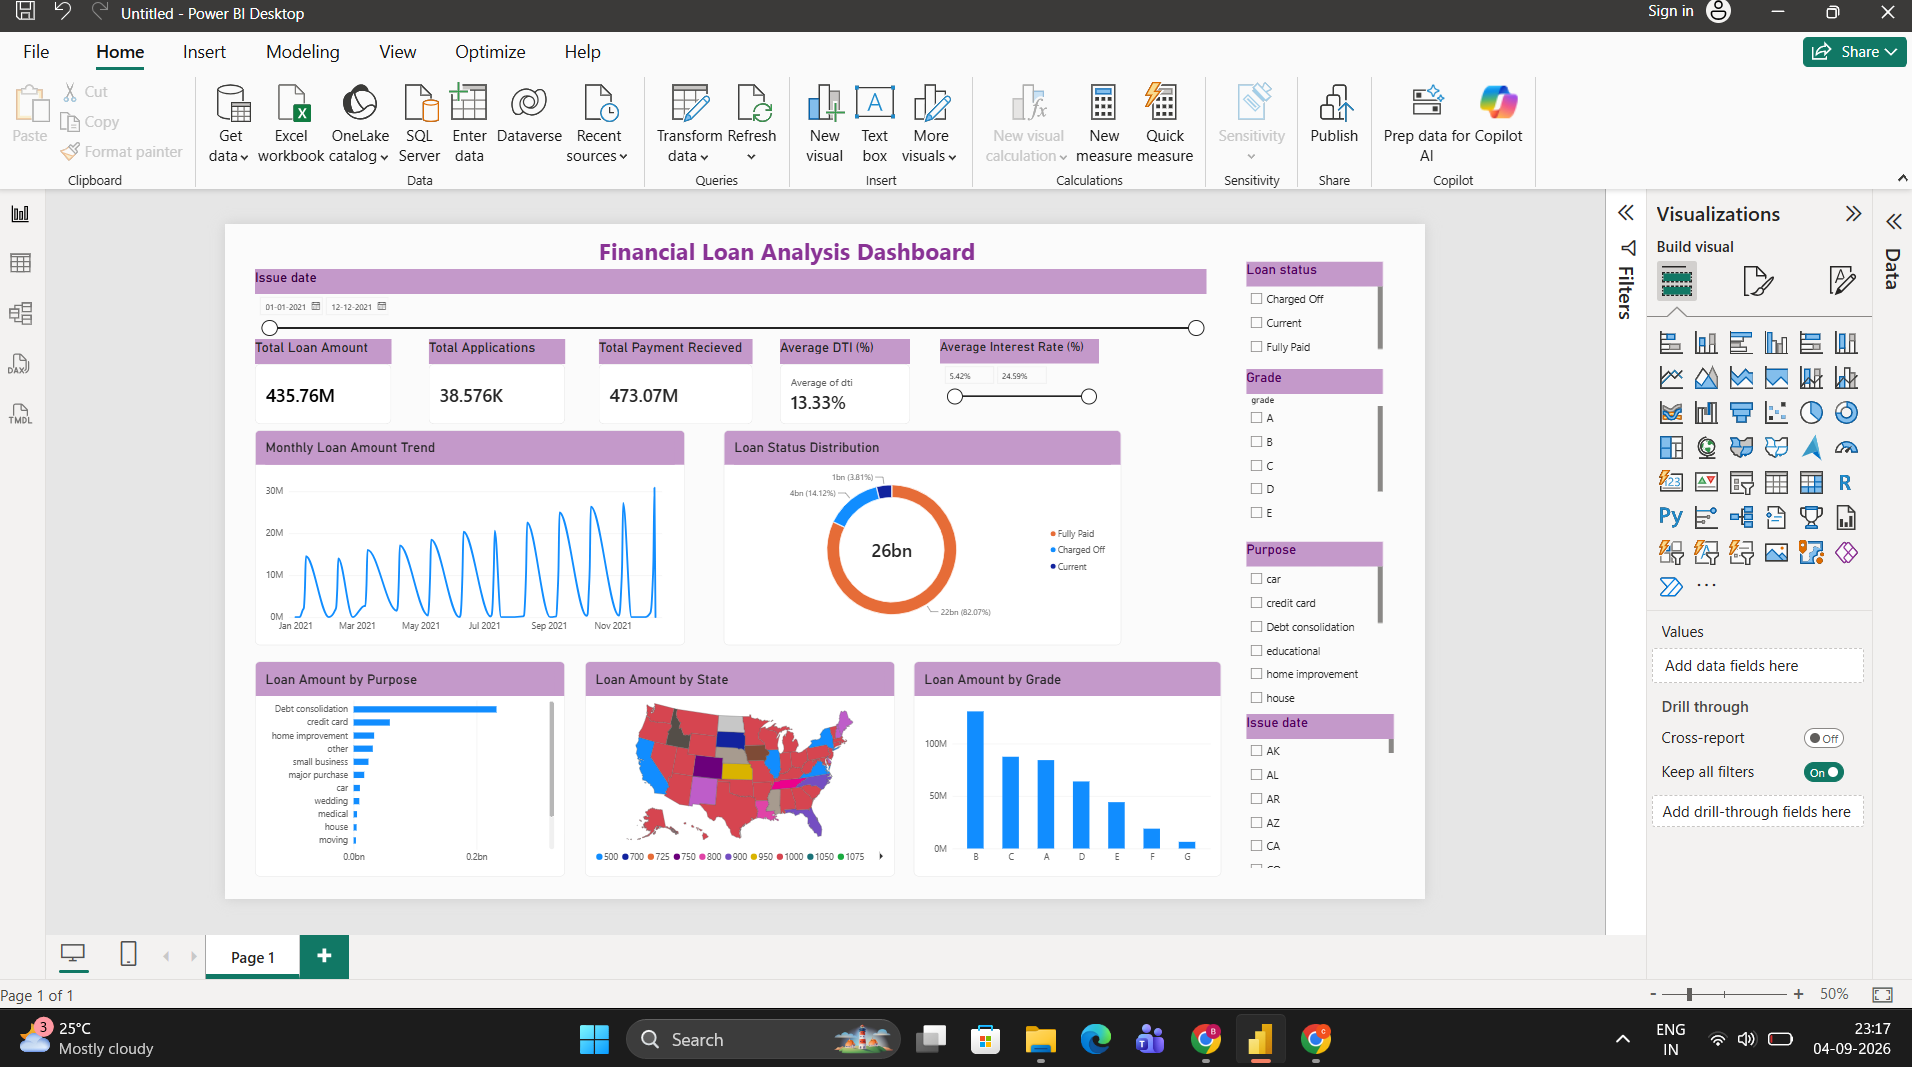

Layout of this report page (visuals, bound fields, positions):
{"tool":"powerbi","page":{"name":"Page 1","canvas":[1920,1080],"ordinal":0},"visuals":[{"type":"cardVisual","title":"Total Loan Amount","fields":{"Data":["Sum(financial_loan.loan_amount)"]},"box":[48,184,218,136],"z":0},{"type":"cardVisual","title":"Total Applications","fields":{"Data":["CountNonNull(financial_loan.id)"]},"box":[326,184,218,136],"z":1},{"type":"cardVisual","title":"Total Payment Recieved","fields":{"Data":["Sum(financial_loan.total_payment)"]},"box":[598,184,246,136],"z":2},{"type":"cardVisual","title":"Average DTI (%)","fields":{"Data":["Avg(financial_loan.dti)"]},"box":[888,184,208,136],"z":3},{"type":"lineChart","title":"Monthly Loan Amount Trend ","fields":{"Category":["financial_loan.issue_date.Variation.Date Hierarchy.Year","financial_loan.issue_date.Variation.Date Hierarchy.Quarter","financial_loan.issue_date.Variation.Date Hierarchy.Month","financial_loan.issue_date.Variation.Date Hierarchy.Day"],"Y":["Sum(financial_loan.loan_amount)"]},"box":[48,330,688,344],"z":4},{"type":"clusteredBarChart","title":"Loan Amount by Purpose","fields":{"Category":["financial_loan.purpose"],"Y":["Sum(financial_loan.loan_amount)"]},"box":[48,700,496,344],"z":5},{"type":"donutChart","title":"Loan Status Distribution","fields":{"Category":["financial_loan.loan_status"],"Y":["Sum(financial_loan.id)"]},"box":[798,330,636,344],"z":6},{"type":"shapeMap","title":"Loan Amount by State","fields":{"Category":["financial_loan.address_state"],"Series":["financial_loan.loan_amount"]},"box":[576,700,496,344],"z":7},{"type":"slicer","title":"Loan status","fields":{"Values":["financial_loan.loan_status"]},"box":[1634,60,218,152],"z":10},{"type":"slicer","title":"Grade","fields":{"Values":["financial_loan.grade"]},"box":[1634,232,218,250],"z":11},{"type":"slicer","title":"Purpose","fields":{"Values":["financial_loan.purpose"]},"box":[1634,508,218,260],"z":12},{"type":"slicer","title":"Issue date","fields":{"Values":["financial_loan.address_state"]},"box":[1634,784,236,246],"z":13},{"type":"slicer","title":"Issue date","fields":{"Values":["financial_loan.issue_date"]},"box":[48,72,1522,128],"z":14},{"type":"textbox","box":[598,18,642,54],"z":15},{"type":"slicer","title":"Average Interest Rate (%)","fields":{"Values":["financial_loan.int_rate"]},"box":[1144,184,254,136],"z":16},{"type":"clusteredColumnChart","title":"Loan Amount by Grade","fields":{"Category":["financial_loan.grade"],"Y":["Sum(financial_loan.loan_amount)"]},"box":[1102,700,492,344],"z":17}]}

Visuals, with their boxes on the page's 1920x1080 design canvas (x1, y1, x2, y2). These are canvas units, not pixel positions in the 1912x1067 screenshot, which may show the page scaled, cropped or inside an application window:
"Total Loan Amount" cardVisual: l=48, t=184, r=266, b=320
"Total Applications" cardVisual: l=326, t=184, r=544, b=320
"Total Payment Recieved" cardVisual: l=598, t=184, r=844, b=320
"Average DTI (%)" cardVisual: l=888, t=184, r=1096, b=320
"Monthly Loan Amount Trend " lineChart: l=48, t=330, r=736, b=674
"Loan Amount by Purpose" clusteredBarChart: l=48, t=700, r=544, b=1044
"Loan Status Distribution" donutChart: l=798, t=330, r=1434, b=674
"Loan Amount by State" shapeMap: l=576, t=700, r=1072, b=1044
"Loan status" slicer: l=1634, t=60, r=1852, b=212
"Grade" slicer: l=1634, t=232, r=1852, b=482
"Purpose" slicer: l=1634, t=508, r=1852, b=768
"Issue date" slicer: l=1634, t=784, r=1870, b=1030
"Issue date" slicer: l=48, t=72, r=1570, b=200
textbox: l=598, t=18, r=1240, b=72
"Average Interest Rate (%)" slicer: l=1144, t=184, r=1398, b=320
"Loan Amount by Grade" clusteredColumnChart: l=1102, t=700, r=1594, b=1044
